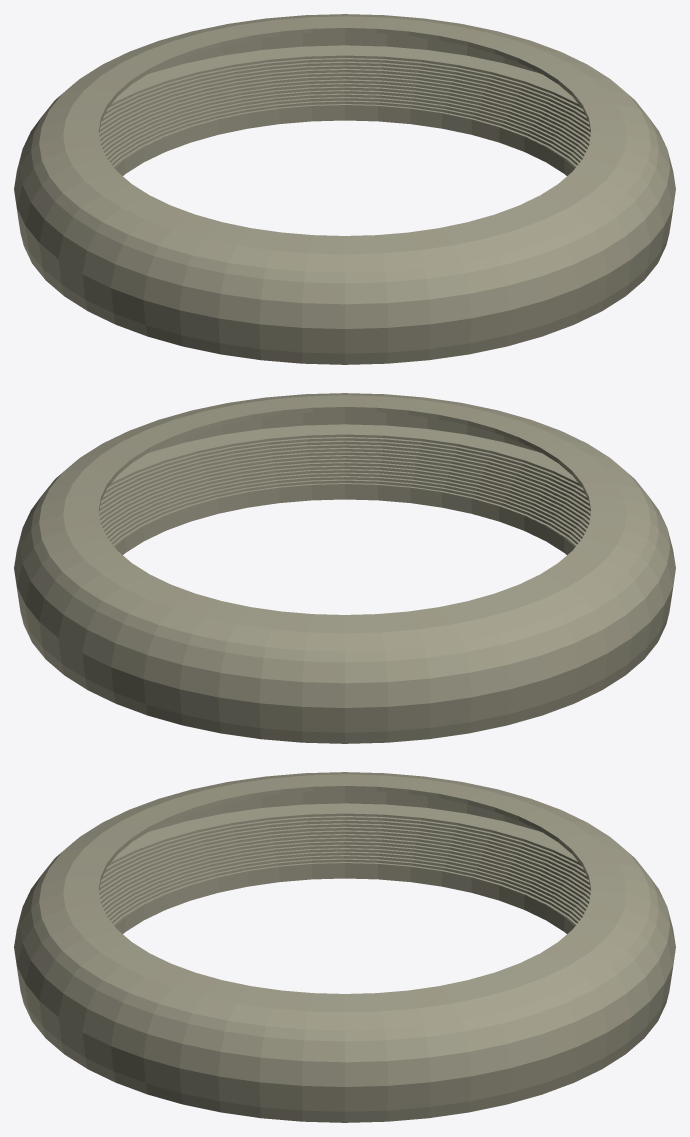
Rendered from Stadium.obj.
The picture shows the model from 3 angles, top to bottom: view 1: azimuth 30°, elevation 25°; view 2: azimuth 150°, elevation 25°; view 3: azimuth 270°, elevation 25°; orthographic projection.
Visible parts, largest first — view 1: Torus; view 2: Torus; view 3: Torus.
Part boxes in pixels (bbox=[...]): Torus: bbox=[14, 14, 675, 364]; Torus: bbox=[14, 393, 675, 743]; Torus: bbox=[14, 772, 675, 1122].
Bounding box in the file's own units: 12.69 × 2.03 × 12.69.
